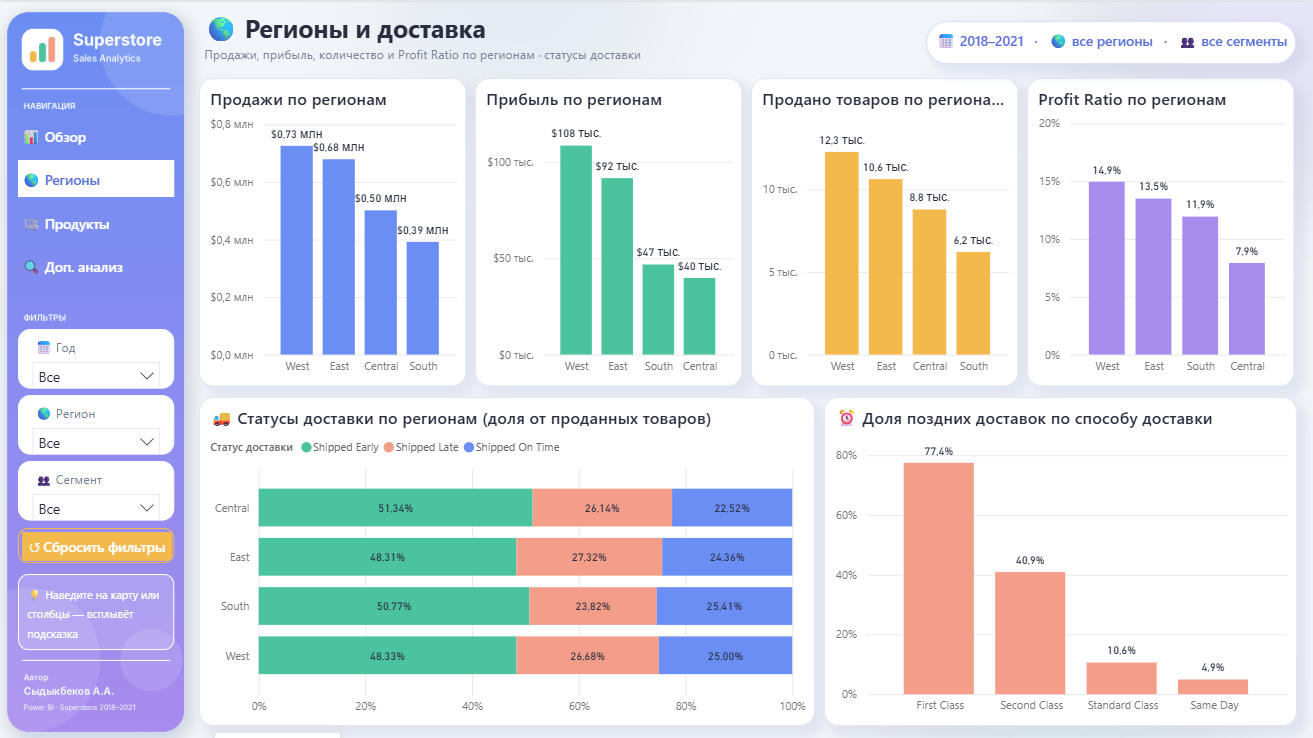

The dashboard page shown, as its layout file describes it:
{"tool":"powerbi","page":{"name":"Регионы и доставка","canvas":[1280,720],"ordinal":1},"visuals":[{"type":"textbox","box":[196,4,700,66],"z":14000},{"type":"clusteredColumnChart","title":"Продажи по регионам","fields":{"Category":["Orders.Region"],"Y":["Orders.Total Sales"]},"box":[196,74,260,300],"z":16000},{"type":"clusteredColumnChart","title":"Прибыль по регионам","fields":{"Category":["Orders.Region"],"Y":["Orders.Total Profit"]},"box":[465,74,260,300],"z":17000},{"type":"clusteredColumnChart","title":"Продано товаров по регионам, шт.","fields":{"Category":["Orders.Region"],"Y":["Orders.Total Quantity"]},"box":[733,74,260,300],"z":18000},{"type":"clusteredColumnChart","title":"Profit Ratio по регионам","fields":{"Category":["Orders.Region"],"Y":["Orders.Profit Ratio"]},"box":[1002,74,260,300],"z":19000},{"type":"hundredPercentStackedBarChart","title":"🚚 Статусы доставки по регионам (доля от проданных товаров)","fields":{"Category":["Orders.Region"],"Series":["Orders.Ship Status"],"Y":["Orders.Total Quantity"]},"box":[196,384,599,320],"z":20000},{"type":"clusteredColumnChart","title":"⏰ Доля поздних доставок по способу доставки","fields":{"Category":["Orders.Ship Mode"],"Y":["Orders.Late Shipment %"]},"box":[804,384,460,320],"z":21000},{"type":"actionButton","box":[20,112,152,36],"z":50000},{"type":"actionButton","box":[20,154,152,36],"z":50100},{"type":"actionButton","box":[20,196,152,36],"z":50200},{"type":"actionButton","box":[20,238,152,36],"z":50300},{"type":"slicer","fields":{"Values":["Orders.Order Year"]},"box":[20,318,152,58],"z":50400},{"type":"slicer","fields":{"Values":["Orders.Region"]},"box":[20,382,152,58],"z":50500},{"type":"slicer","fields":{"Values":["Orders.Segment"]},"box":[20,446,152,58],"z":50600},{"type":"actionButton","box":[20,512,152,34],"z":50700},{"type":"textbox","box":[20,556,152,74],"z":50800},{"type":"card","fields":{"Values":["Orders.Filter Label"]},"box":[904,18,360,42],"z":50900}]}

Visuals, with their boxes on the page's 1280x720 design canvas (x1, y1, x2, y2). These are canvas units, not pixel positions in the 1313x738 screenshot, which may show the page scaled, cropped or inside an application window:
textbox: <bbox>196, 4, 896, 70</bbox>
"Продажи по регионам" clusteredColumnChart: <bbox>196, 74, 456, 374</bbox>
"Прибыль по регионам" clusteredColumnChart: <bbox>465, 74, 725, 374</bbox>
"Продано товаров по регионам, шт." clusteredColumnChart: <bbox>733, 74, 993, 374</bbox>
"Profit Ratio по регионам" clusteredColumnChart: <bbox>1002, 74, 1262, 374</bbox>
"🚚 Статусы доставки по регионам (доля от проданных товаров)" hundredPercentStackedBarChart: <bbox>196, 384, 795, 704</bbox>
"⏰ Доля поздних доставок по способу доставки" clusteredColumnChart: <bbox>804, 384, 1264, 704</bbox>
actionButton: <bbox>20, 112, 172, 148</bbox>
actionButton: <bbox>20, 154, 172, 190</bbox>
actionButton: <bbox>20, 196, 172, 232</bbox>
actionButton: <bbox>20, 238, 172, 274</bbox>
slicer - Orders.Order Year: <bbox>20, 318, 172, 376</bbox>
slicer - Orders.Region: <bbox>20, 382, 172, 440</bbox>
slicer - Orders.Segment: <bbox>20, 446, 172, 504</bbox>
actionButton: <bbox>20, 512, 172, 546</bbox>
textbox: <bbox>20, 556, 172, 630</bbox>
card - Orders.Filter Label: <bbox>904, 18, 1264, 60</bbox>
